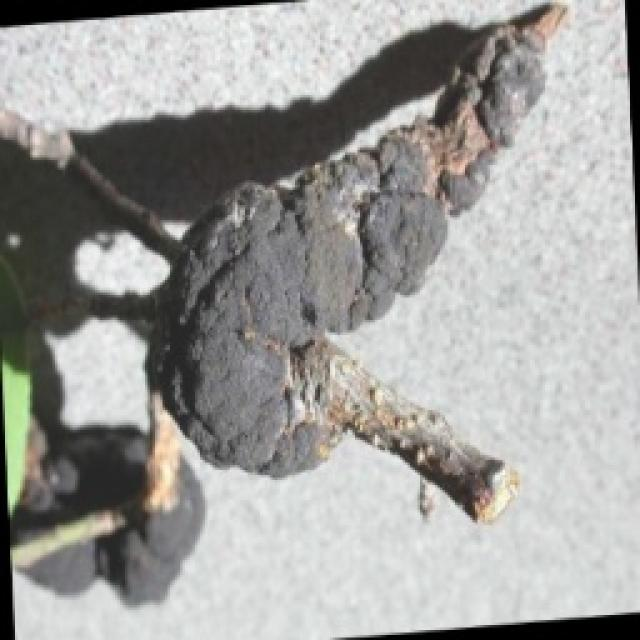Black_knot: (145, 0, 570, 522)
